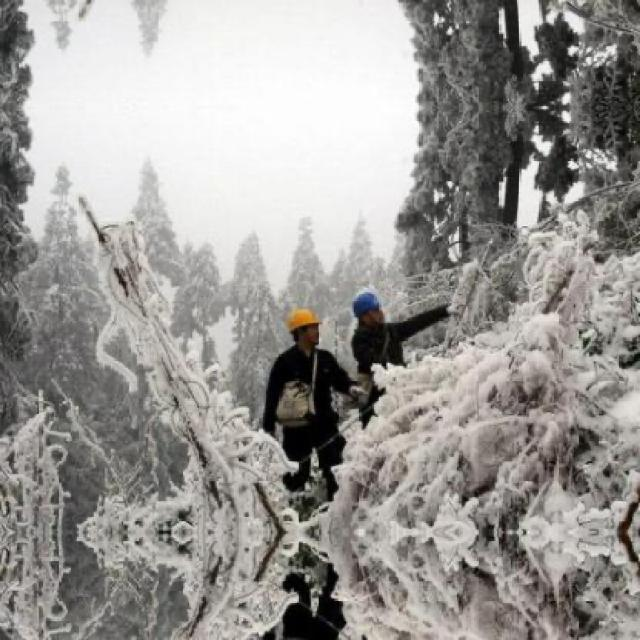con casco: (274, 295, 344, 361), (344, 282, 389, 344)
